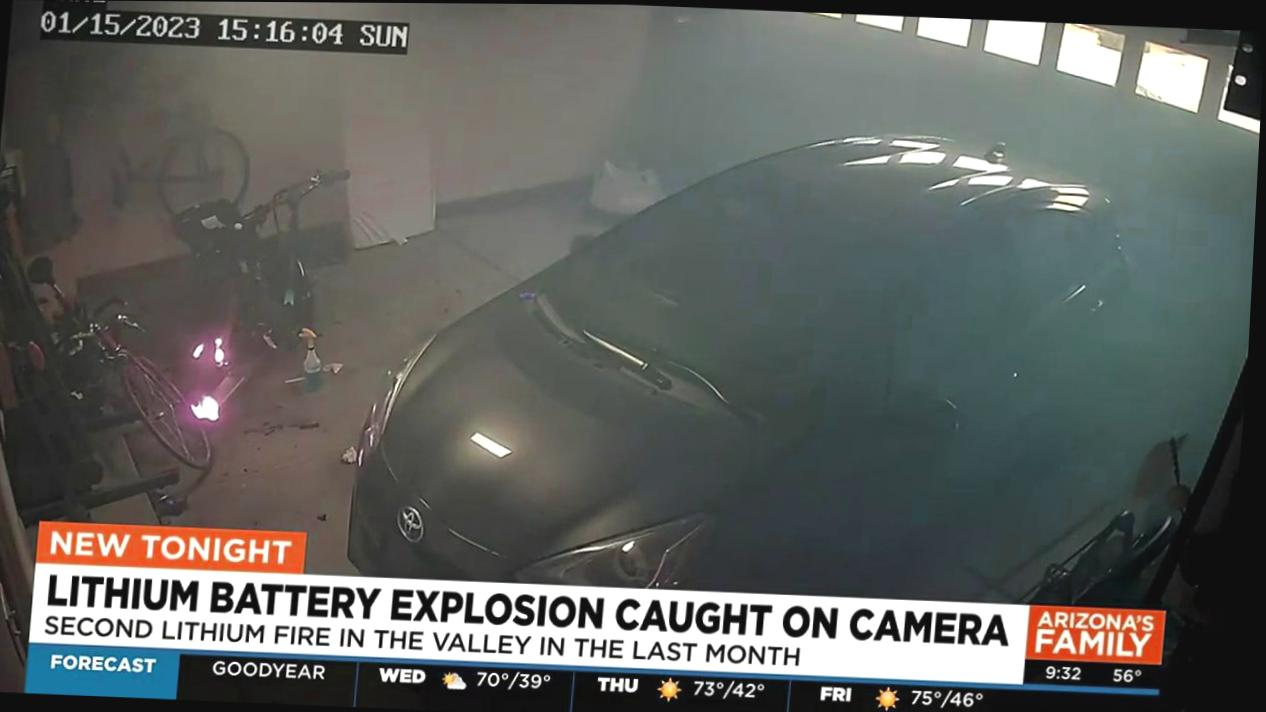fire: (127, 239, 305, 480)
